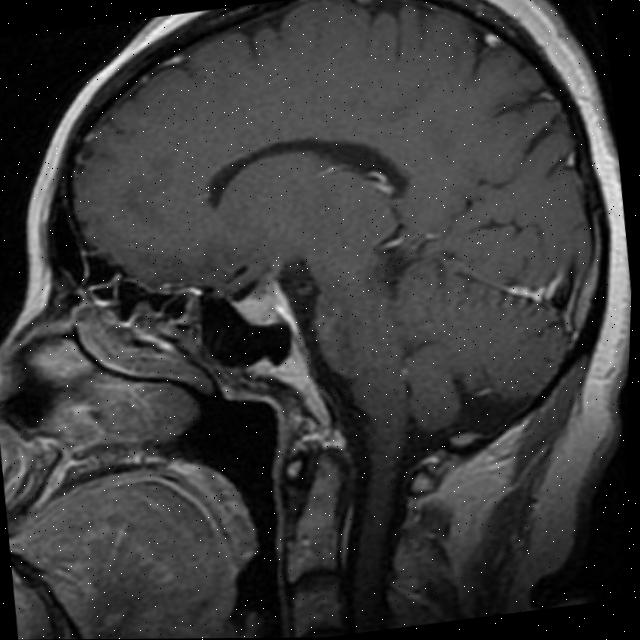Pituitary: (228, 271, 289, 331)
